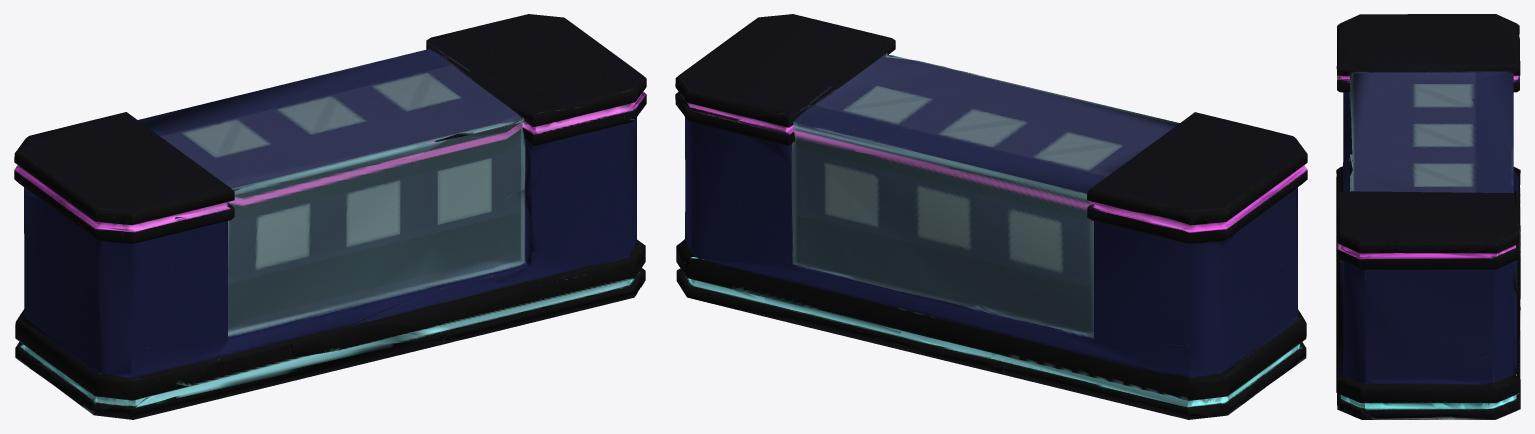
Rendered from mostrador-tienda.glb.
3 views of the same model, side by side, from view 1: azimuth 30°, elevation 25°; view 2: azimuth 150°, elevation 25°; view 3: azimuth 270°, elevation 25° (orthographic). The views are drawn at different scales.
Size of the model in its own units: 2 by 0.7176 by 0.6759.
Materials: 1 (1 with a texture image).
